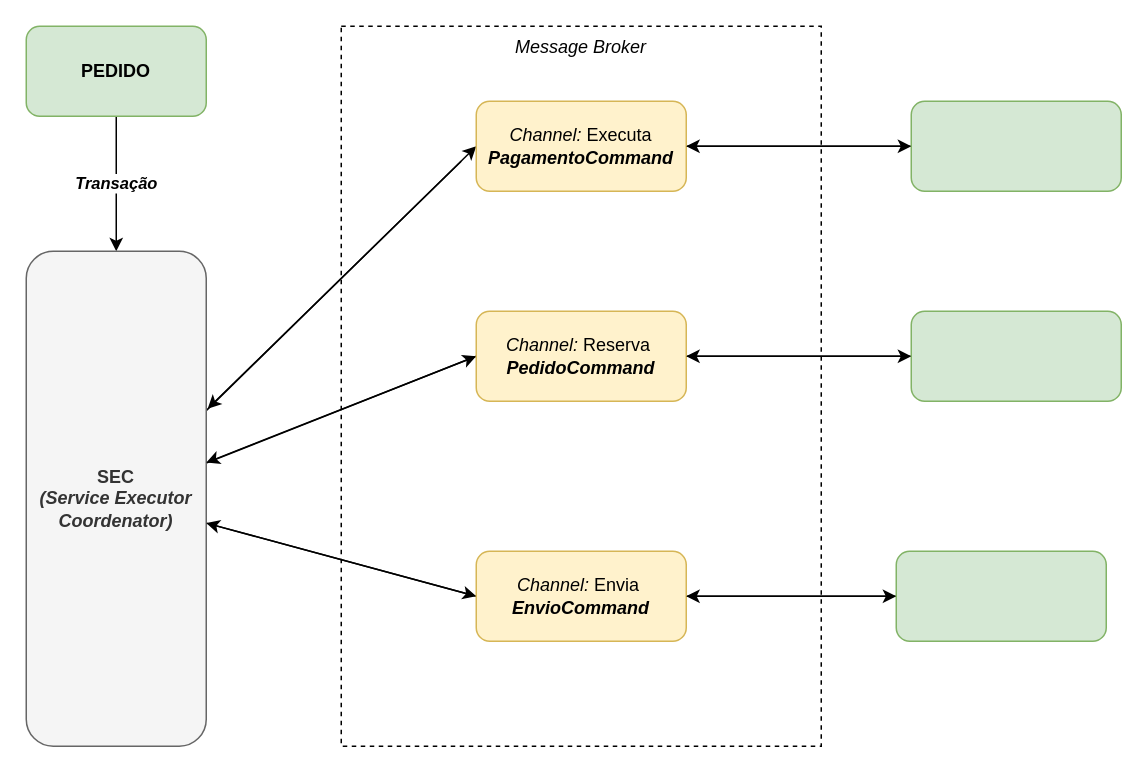
The diagram is 1148 pixels wide and 773 high, and some of its shapes have lost their labels. The centre of each missing label's shape, as x and y in pixels:
Serviço de Envio: the point at 1000,595
Serviço de Estoque: the point at 1015,355
Serviço de Pagamento: the point at 1015,145
